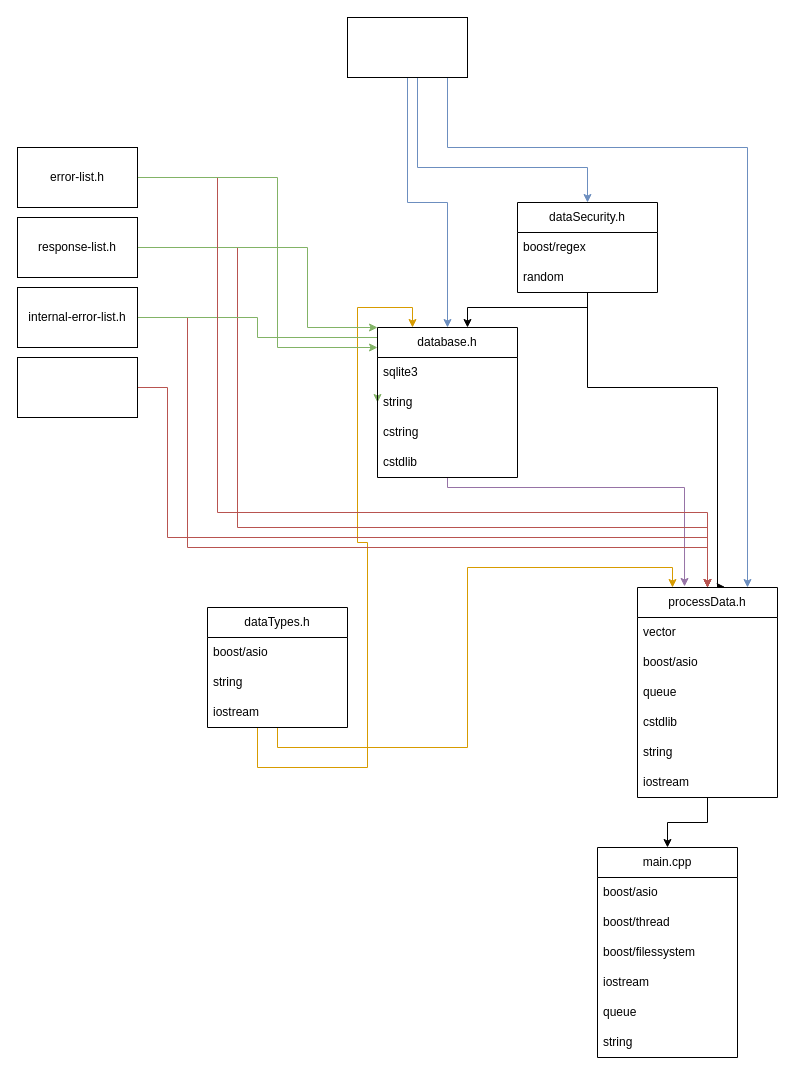
Some shapes in this 795 by 1075 pixel diagram are drawn without their labels. The shapes that lost their labels are listed below. From the top down, each one's centre as x and y in pixels, then its label:
At [407,47]: "config.h".
At [77,387]: "request-list.h".
